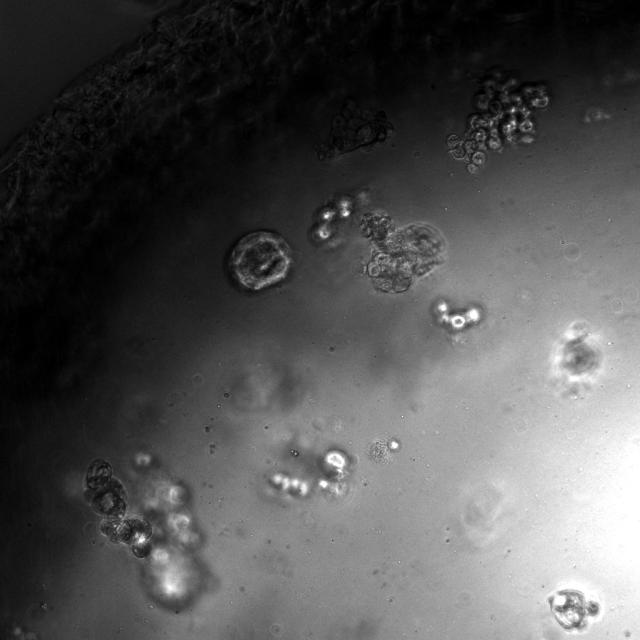organoid: (134, 451, 212, 611), (447, 73, 549, 174), (361, 211, 446, 293), (85, 458, 151, 557), (316, 98, 393, 160), (228, 229, 298, 292), (268, 449, 351, 497), (557, 322, 602, 379), (309, 195, 354, 249), (549, 589, 600, 631), (433, 299, 482, 332), (366, 436, 402, 463)
